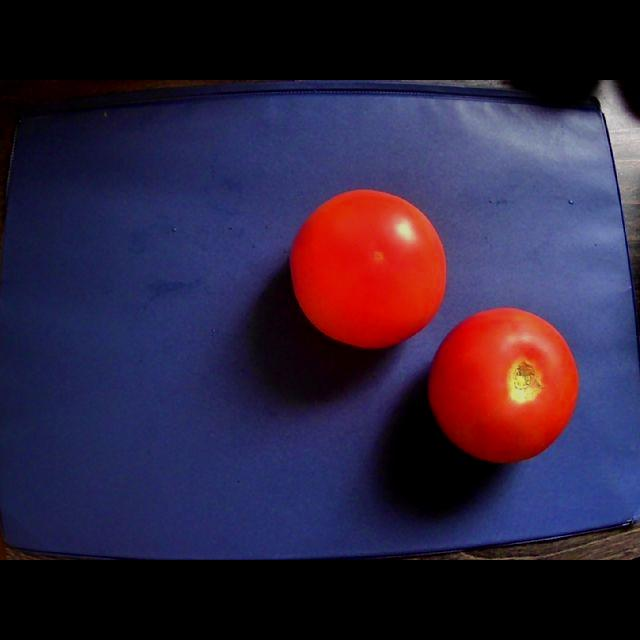tomate: (291, 190, 446, 348), (429, 308, 579, 463)
